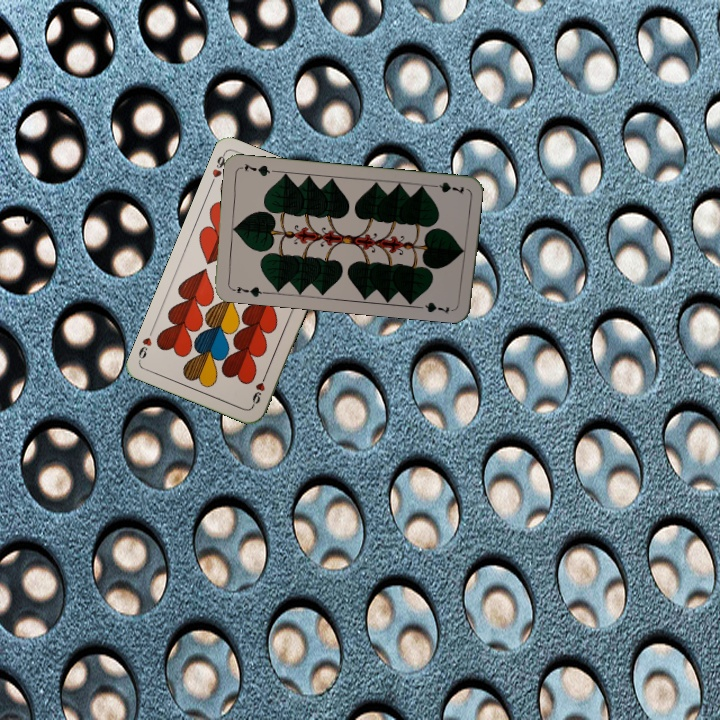G7: (426, 178, 467, 197), (227, 282, 268, 300)
H9: (206, 150, 228, 188), (248, 370, 269, 409)
